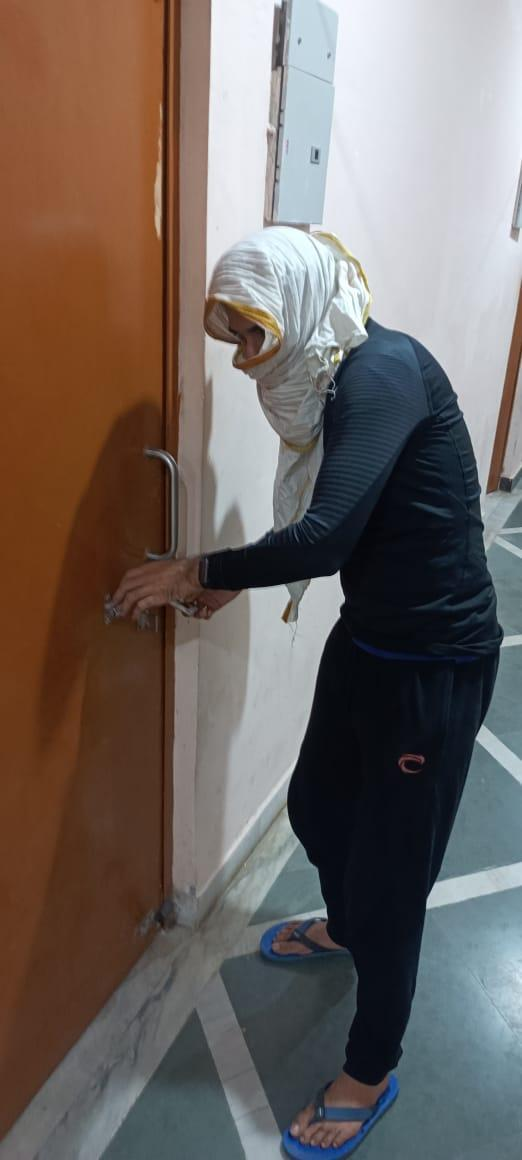suspicion: (67, 220, 522, 1160), (167, 193, 500, 1160)
